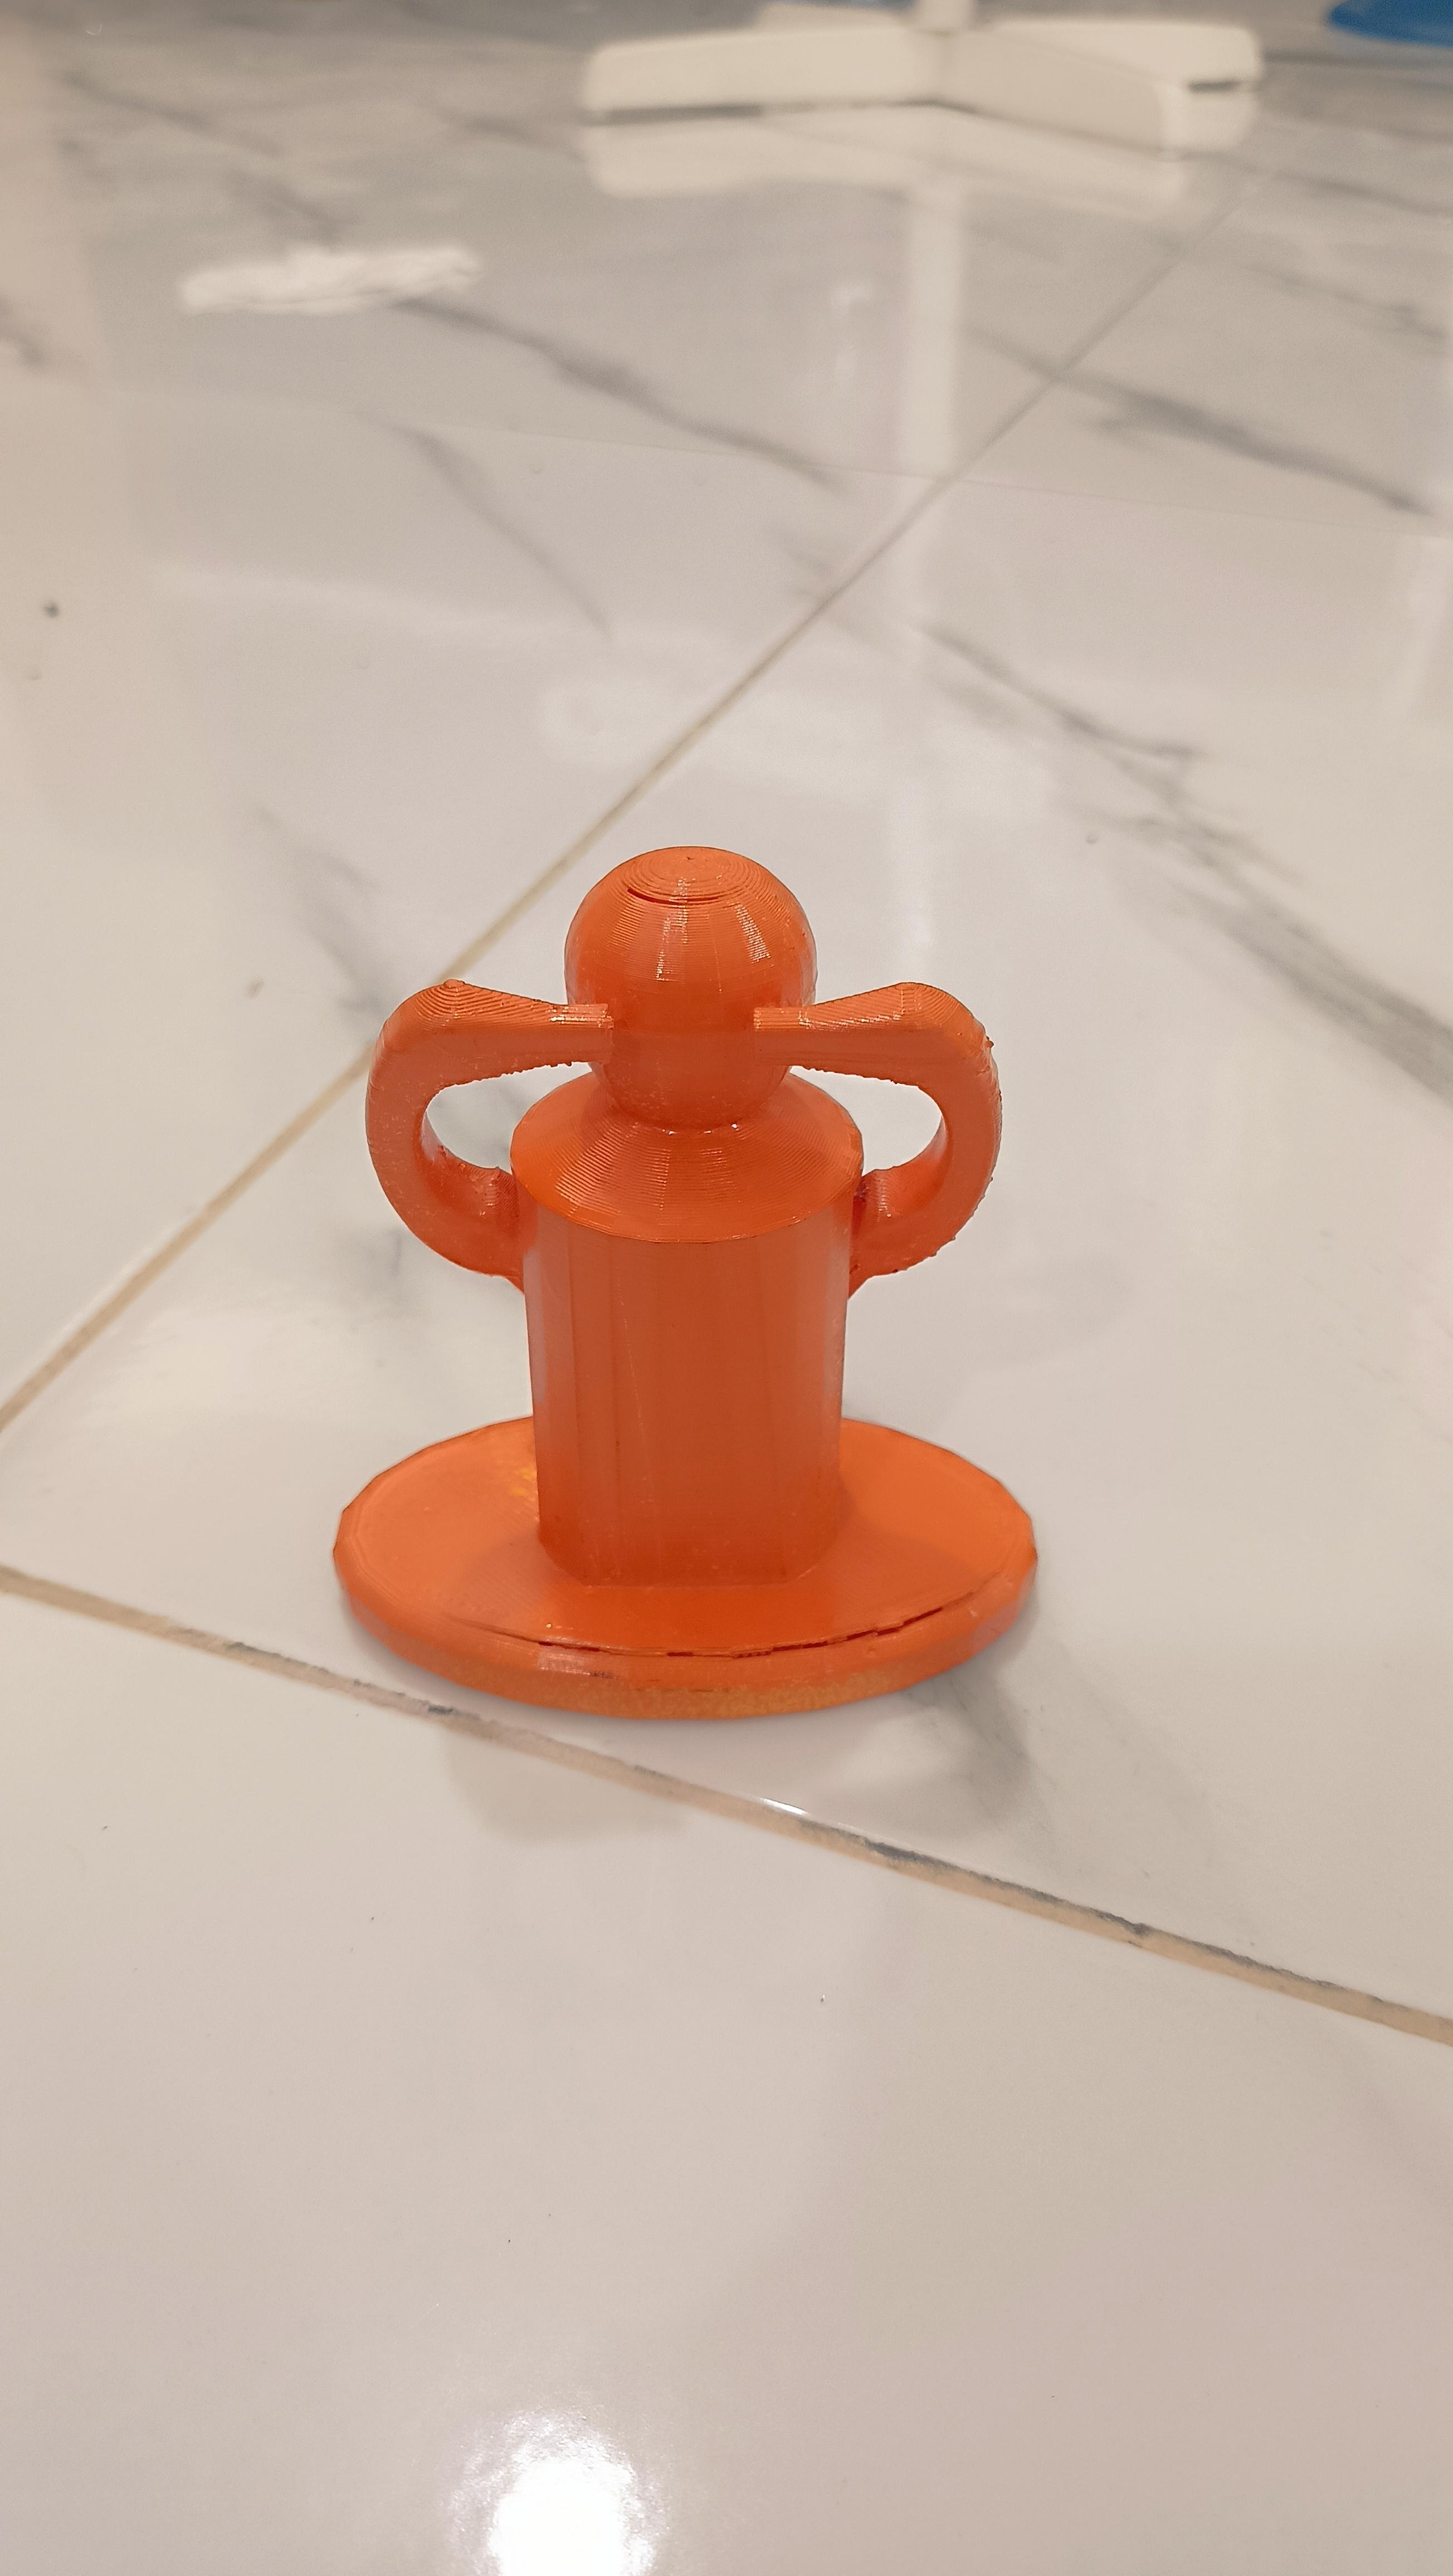real_person: (281, 791, 1131, 1797)
